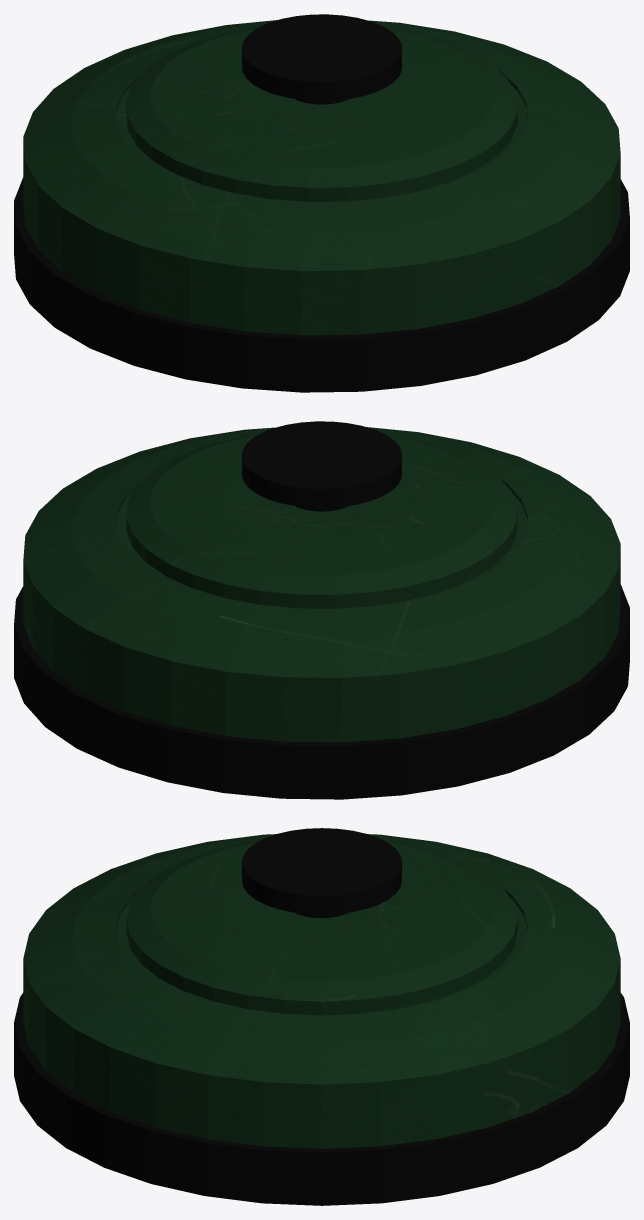
Rendered from mine.gltf.
The picture shows the model from 3 angles, top to bottom: view 1: azimuth 30°, elevation 25°; view 2: azimuth 150°, elevation 25°; view 3: azimuth 270°, elevation 25°; orthographic projection.
Parts seen in each view (by area): view 1: mine; view 2: mine; view 3: mine.
Part boxes in pixels (box(x1,y1,x2,y2)): mine: box(14, 14, 629, 392); mine: box(14, 421, 629, 799); mine: box(14, 828, 629, 1205).
Size of the model in its own units: 1.03 by 0.3962 by 1.03.
Materials: 2 (1 with a texture image).
